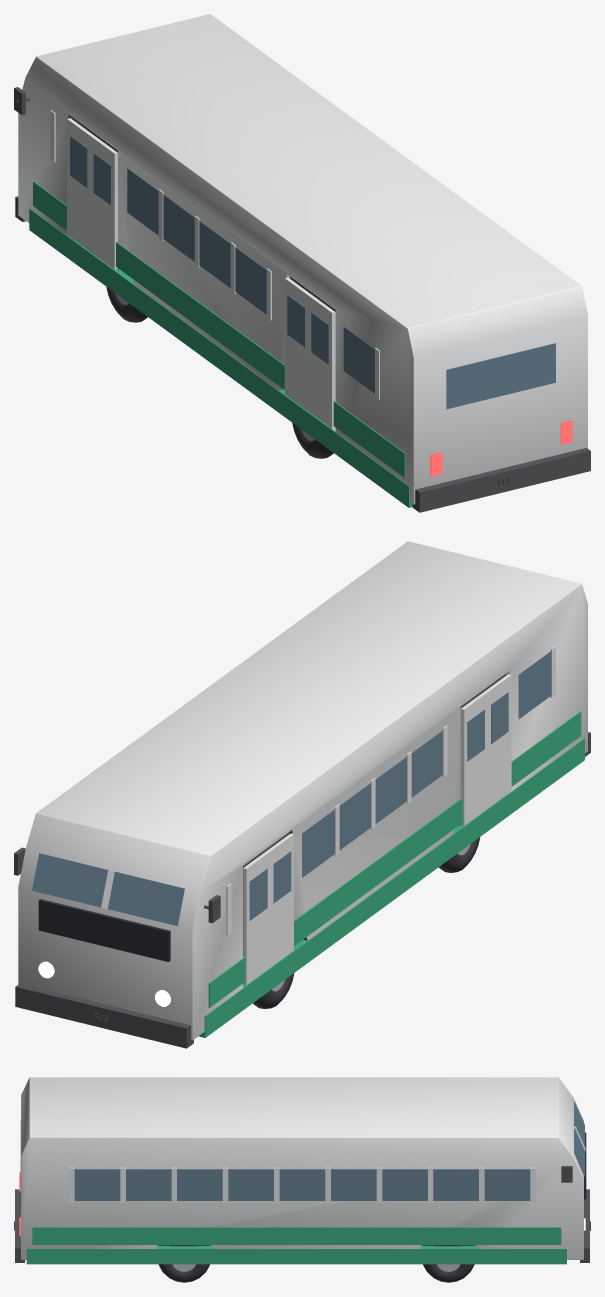
Rendered from bus-10m.glb.
3 views of the same model, one above another, from view 1: azimuth 30°, elevation 25°; view 2: azimuth 150°, elevation 25°; view 3: azimuth 270°, elevation 25° (orthographic). The views are drawn at different scales.
Parts seen in each view (by area): view 1: bus-10m_body, transit_door_2, transit_door_1; view 2: bus-10m_body, transit_door_2, transit_door_1, dest_board; view 3: bus-10m_body, wheel_FR, wheel_RR.
Boxes of the visible parts, bbox=[...] form: bus-10m_body: bbox=[14, 14, 590, 512]; transit_door_2: bbox=[284, 277, 335, 428]; transit_door_1: bbox=[67, 118, 117, 269]; bus-10m_body: bbox=[14, 541, 590, 1048]; transit_door_2: bbox=[460, 674, 511, 825]; transit_door_1: bbox=[243, 833, 293, 984]; dest_board: bbox=[38, 899, 170, 961]; bus-10m_body: bbox=[14, 1077, 590, 1264]; wheel_FR: bbox=[423, 1245, 474, 1282]; wheel_RR: bbox=[158, 1245, 209, 1282].
Size of the model in its own units: 2.94 by 2.95 by 10.25.
